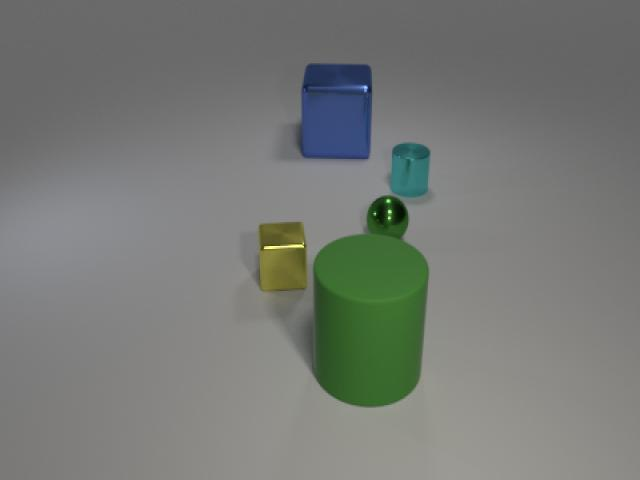cylinder: (312, 227, 432, 411), (388, 135, 433, 200)
round ball: (365, 194, 413, 244)
